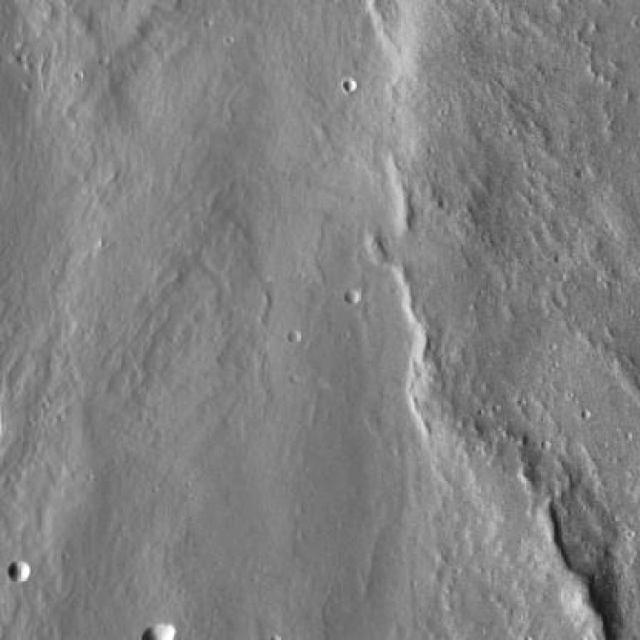crater: (8, 562, 29, 584), (344, 290, 361, 308)
